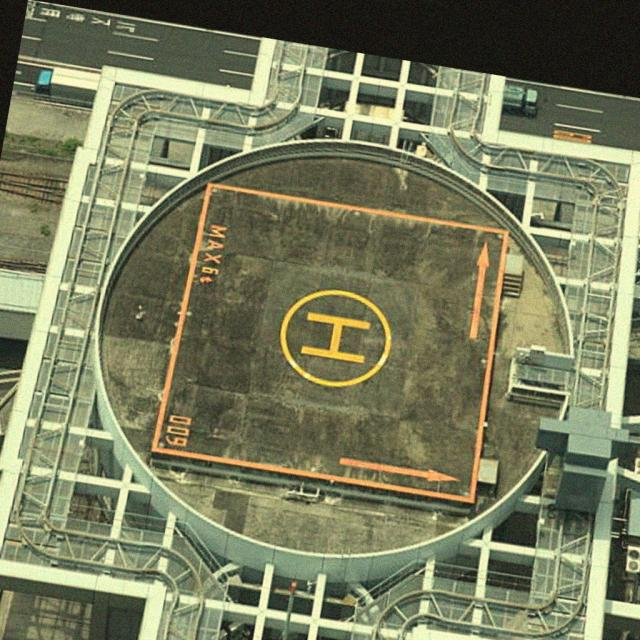helipad: (277, 286, 393, 392)
